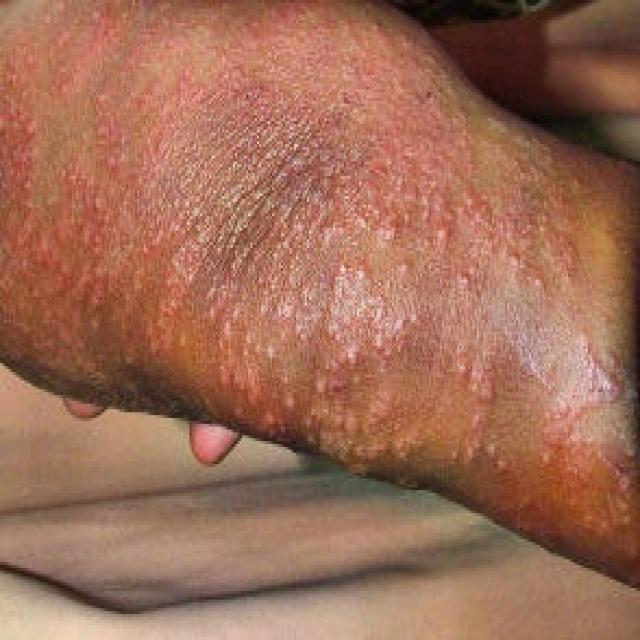Warts-Molluscum-and-other-Viral-Infections: (26, 18, 607, 524)
